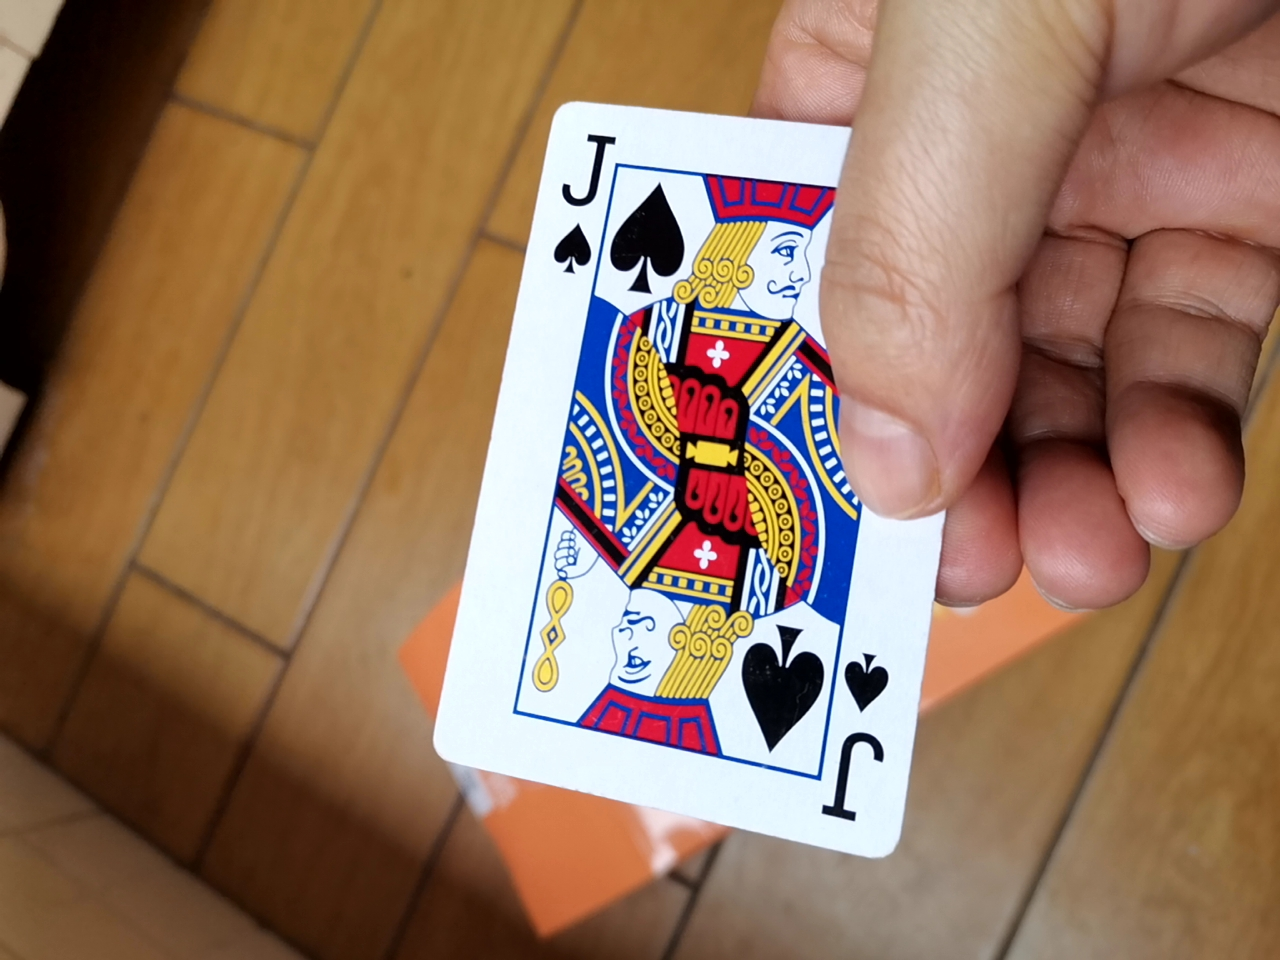ht j: (445, 101, 922, 873)
